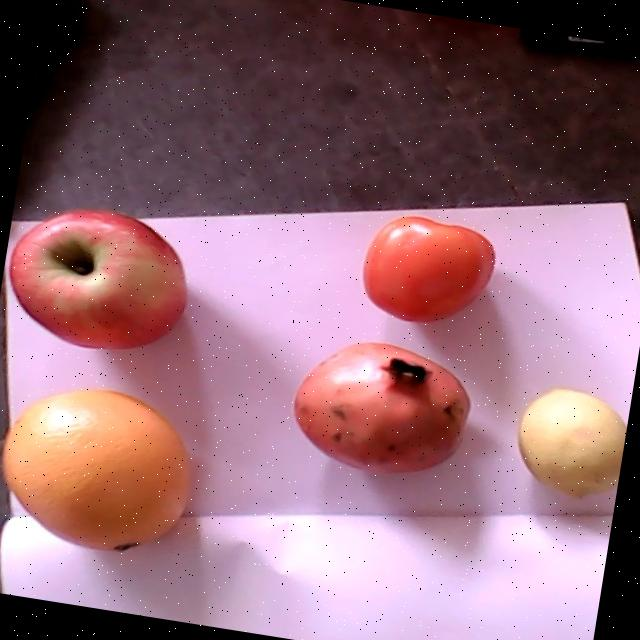apple: (10, 209, 190, 349)
lemon: (519, 388, 627, 497)
orange: (2, 389, 193, 550)
pomegranate: (293, 343, 471, 473)
tomato: (364, 214, 497, 321)
